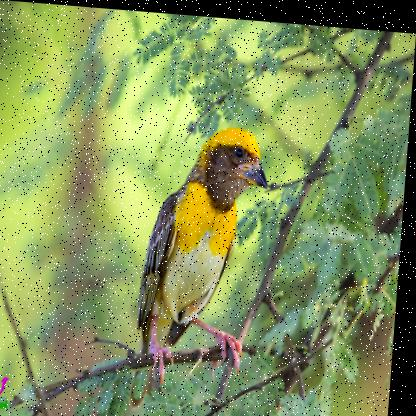Burung: (136, 119, 273, 411)
